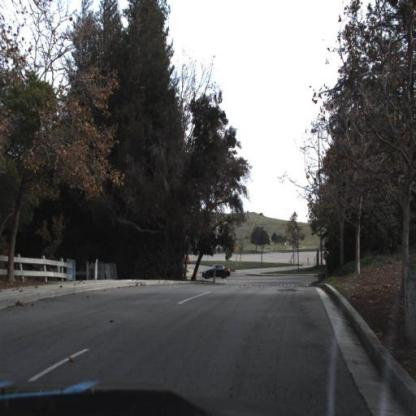car: (202, 262, 232, 284)
